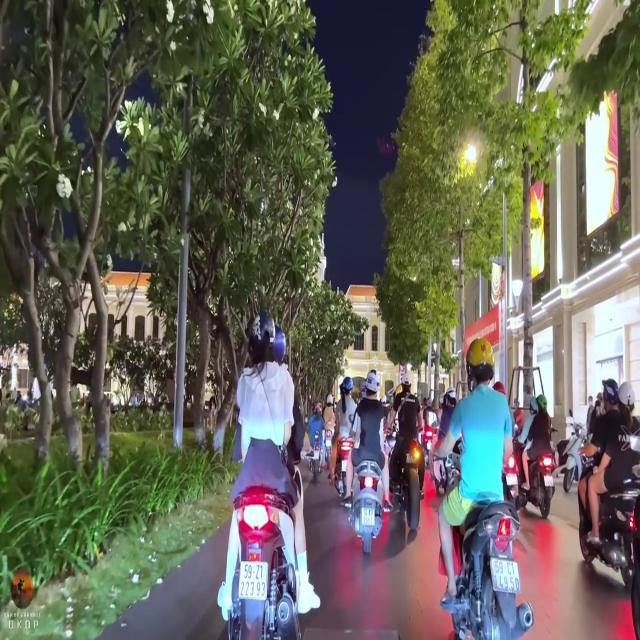bien_trang: (236, 554, 272, 608), (487, 550, 523, 602)
